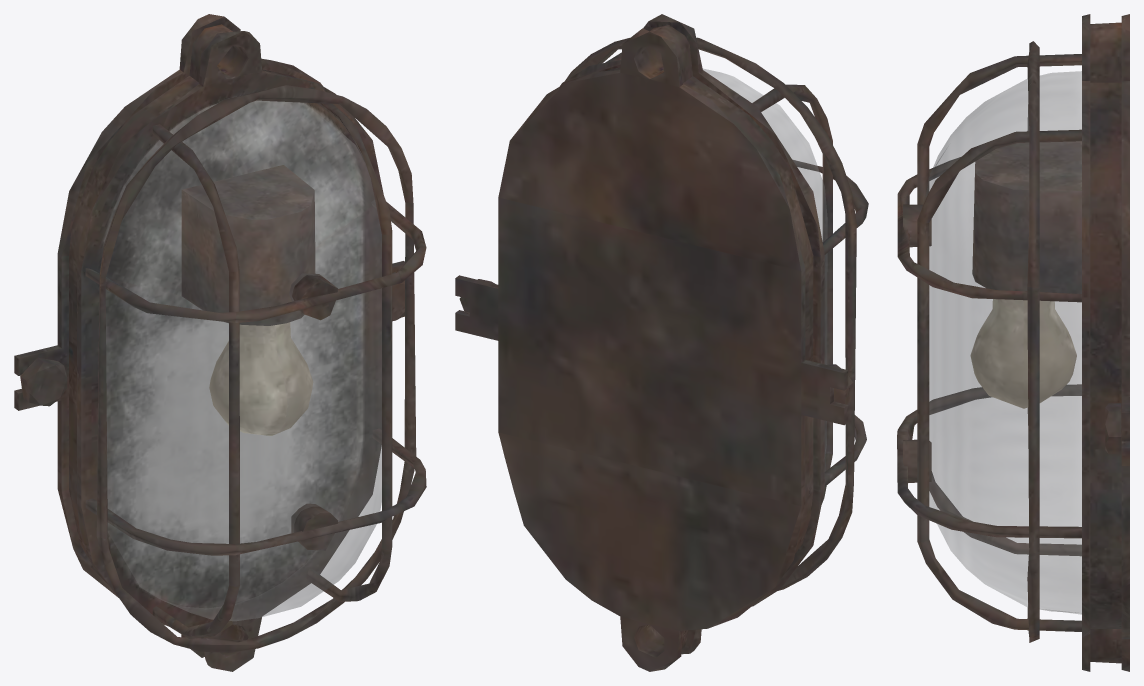
Rendered from industrial_wall_lamp.glb.
3 renders of one model, left to right at view 1: azimuth 30°, elevation 25°; view 2: azimuth 150°, elevation 25°; view 3: azimuth 270°, elevation 25°, orthographic.
Visible parts, largest first — view 1: industrial_wall_lamp; view 2: industrial_wall_lamp; view 3: industrial_wall_lamp.
Boxes of the visible parts, x1,y1,x2,y2 form: industrial_wall_lamp: [14, 14, 426, 671]; industrial_wall_lamp: [455, 14, 868, 671]; industrial_wall_lamp: [897, 14, 1129, 671].
Bounding box in the file's own units: 0.2734 × 0.4299 × 0.1393.
2 materials, 2 textured.
